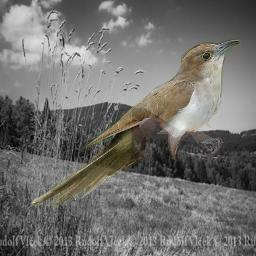Cuckoo: (30, 39, 242, 208)
